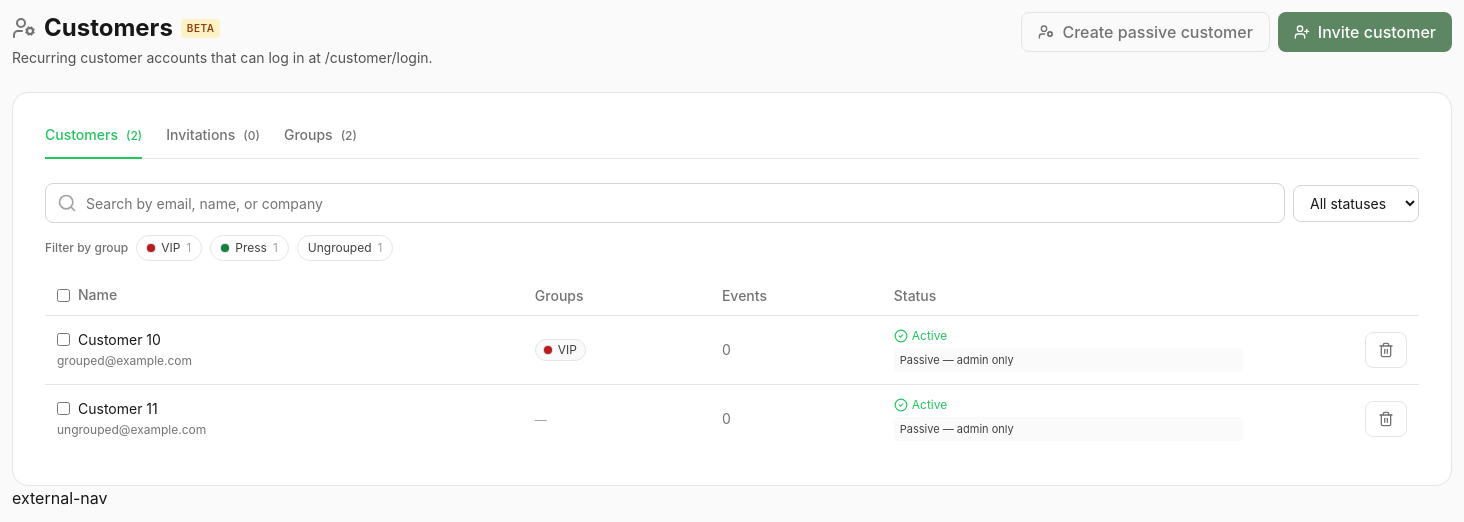
Test case: the catalogue tab › lists the groups with their member counts
This screenshot has width=1464, height=522.
Check: the text "grouped@example.com" is shown, box [57,353,192,368]
Click the button "Groups(2)". click: [320, 142]
box: [284,125,357,159]
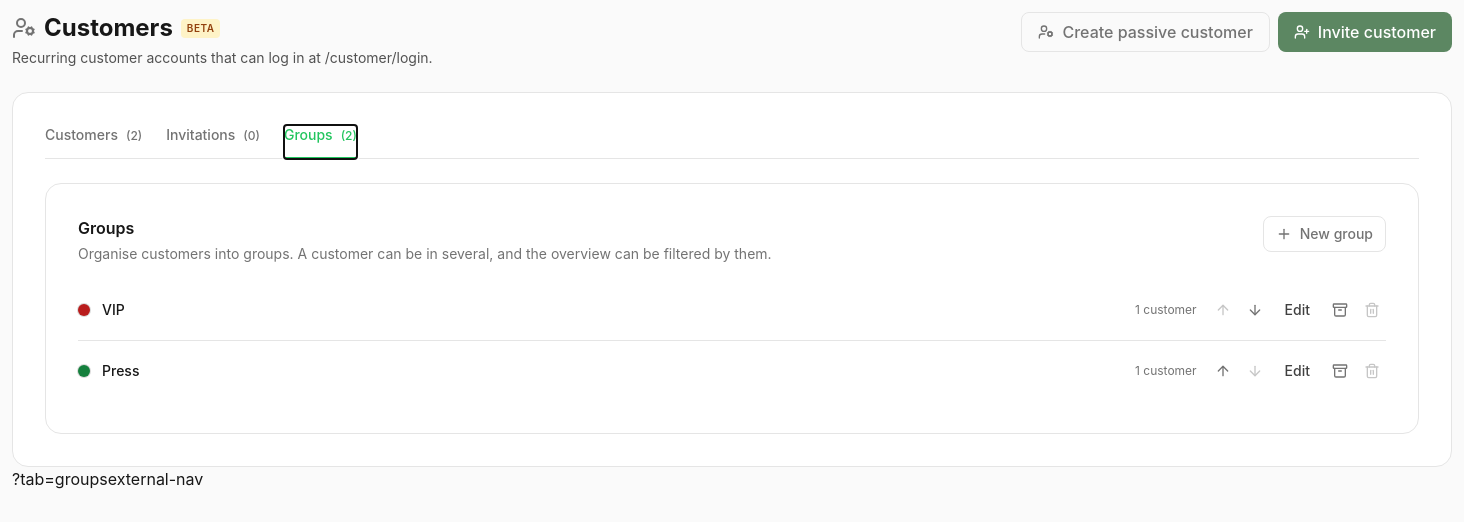
Check: the text "1 customer" is shown 2 times, box [1135,302,1197,318]; [1135,363,1197,379]
Check: the button "New group" is shown, box [1263,216,1386,252]
